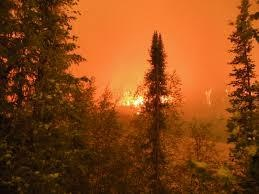fire: (120, 89, 148, 111), (159, 93, 175, 104)
